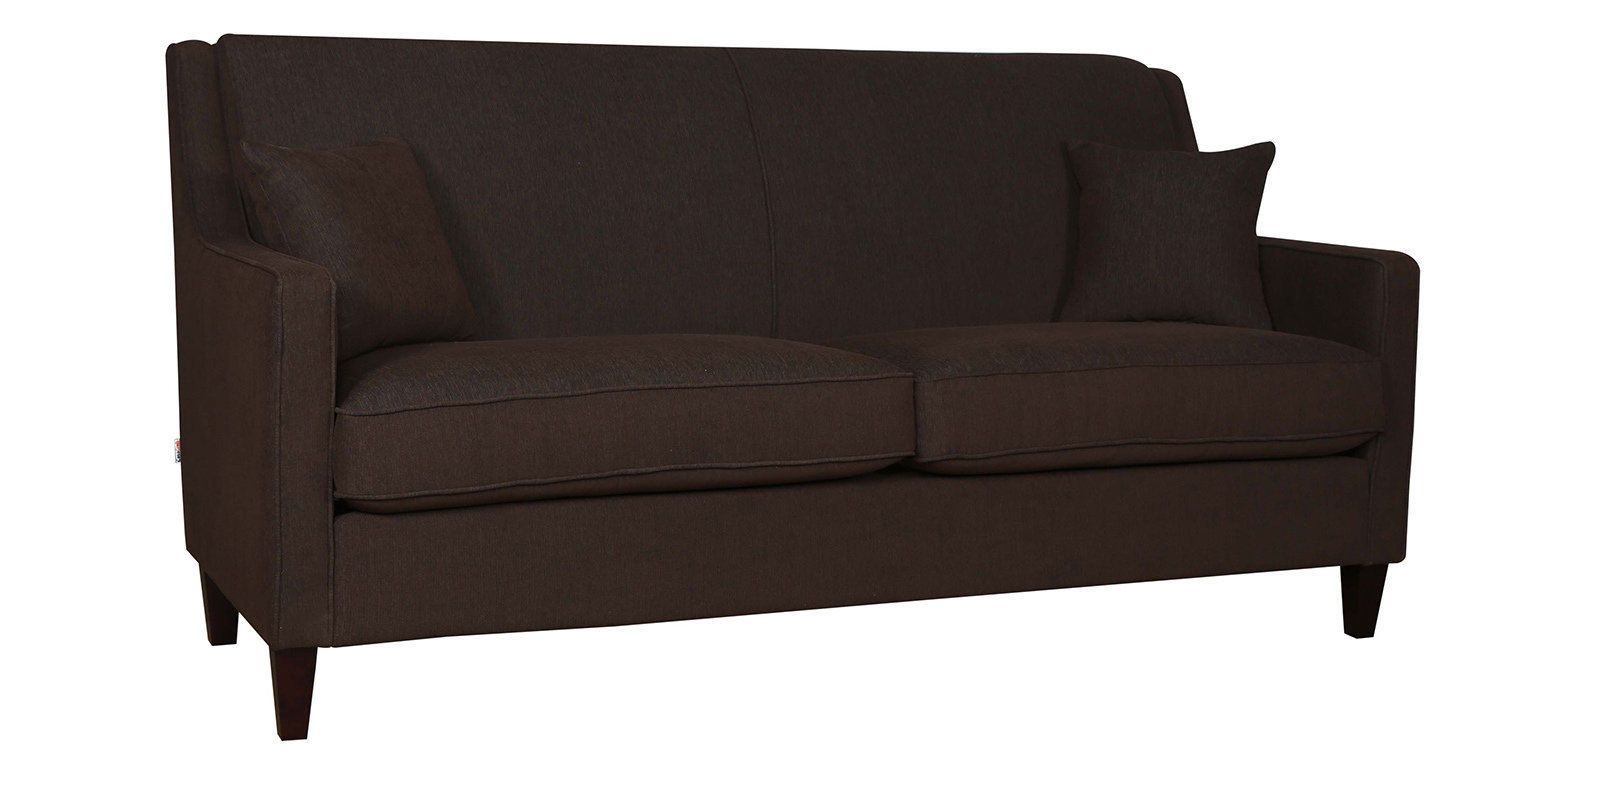Oscar Three Seater Sofa in Chestnut Brown Colour by CasaCraft: (167, 32, 1420, 741)
